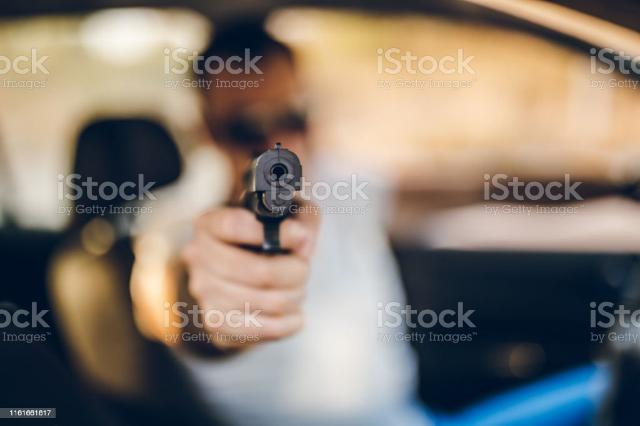handgun: (230, 140, 306, 266)
